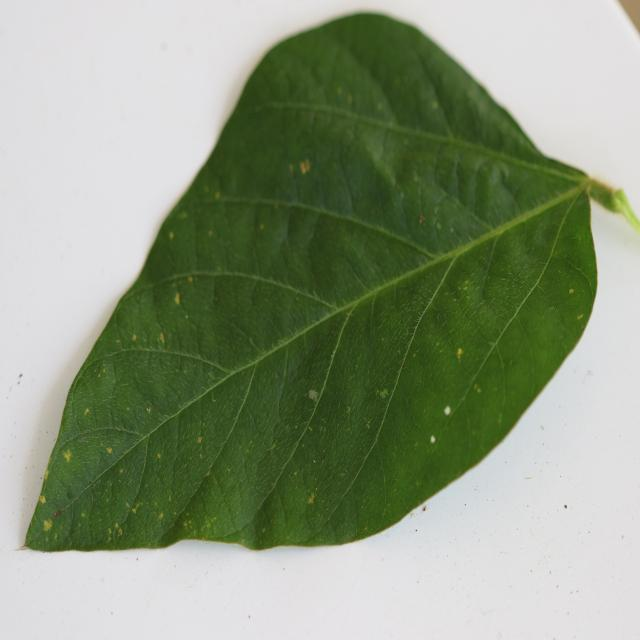Soybean: (2, 12, 633, 558)
downey_mildew: (103, 422, 212, 539), (267, 364, 356, 504), (400, 372, 487, 457), (508, 430, 595, 514), (394, 171, 460, 245), (111, 320, 174, 375), (159, 274, 203, 336), (233, 420, 274, 469), (443, 274, 481, 322), (110, 498, 144, 538), (38, 505, 59, 540), (288, 157, 314, 182), (108, 515, 129, 540)
